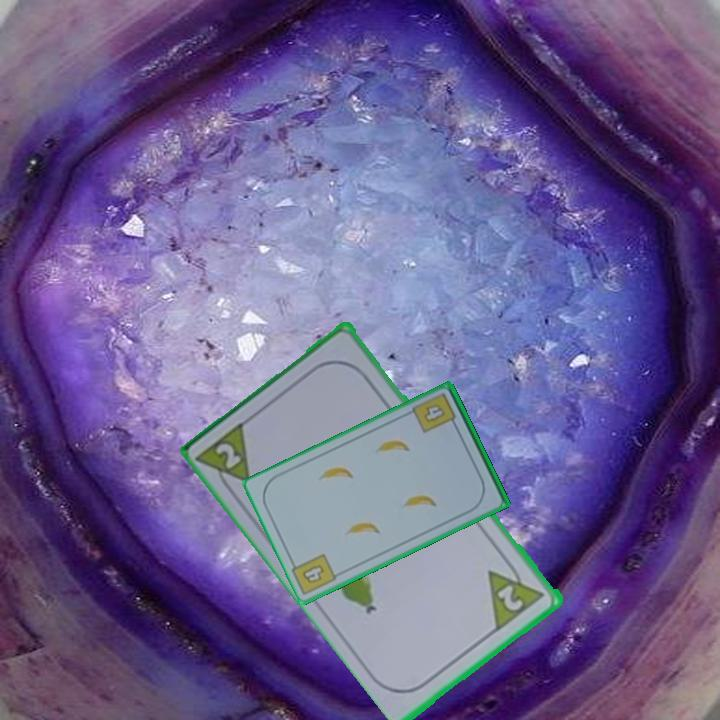2p: (194, 417, 255, 500), (494, 581, 528, 615)
4b: (410, 389, 460, 436), (298, 561, 327, 587)
